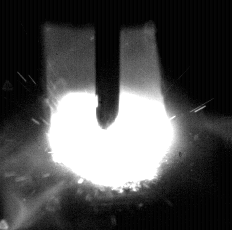arame: (96, 0, 122, 128)
poca: (46, 0, 178, 230)
